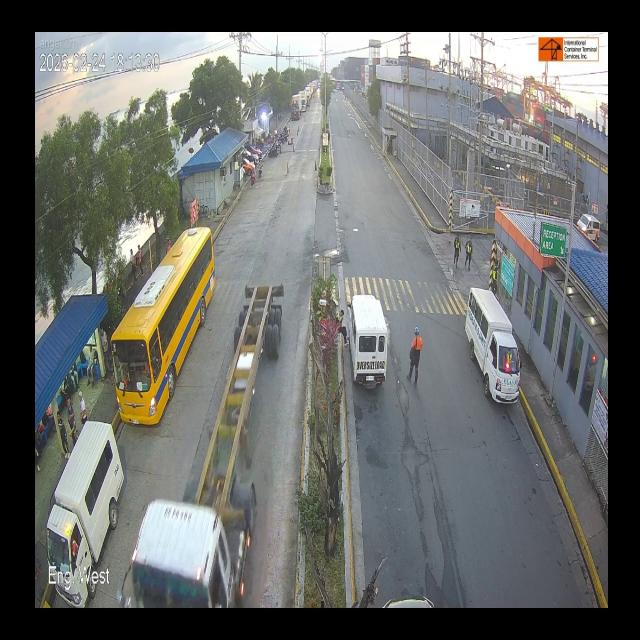bus: (109, 221, 222, 444)
car: (57, 428, 131, 562), (461, 290, 523, 410), (348, 294, 392, 404)
truck: (116, 283, 302, 606), (292, 94, 302, 123)
